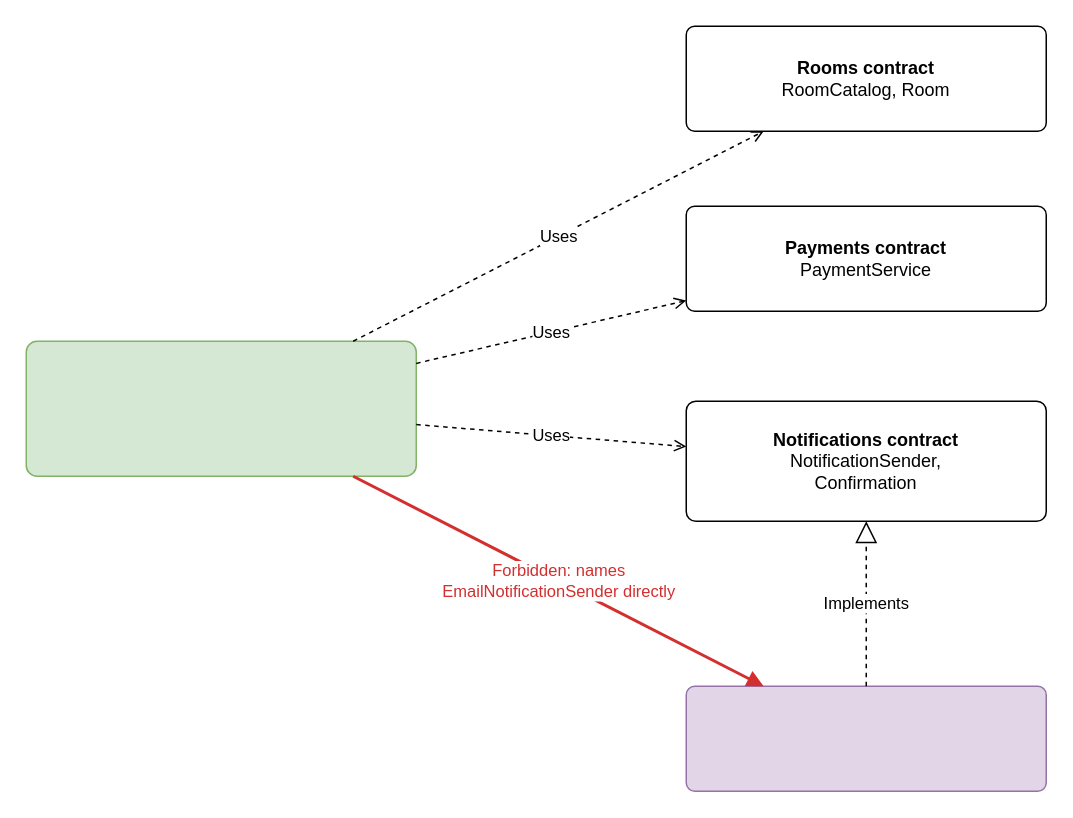
This 1073x818 diagram has some shape labels left out. The box of each missing label's shape, as (x1, y1, x2, y2) in pixels:
Notifications internal EmailNotificationSender: (685, 685, 1046, 791)
Reservations BookingService and the booking rule. Uses only public contracts.: (25, 340, 416, 476)
